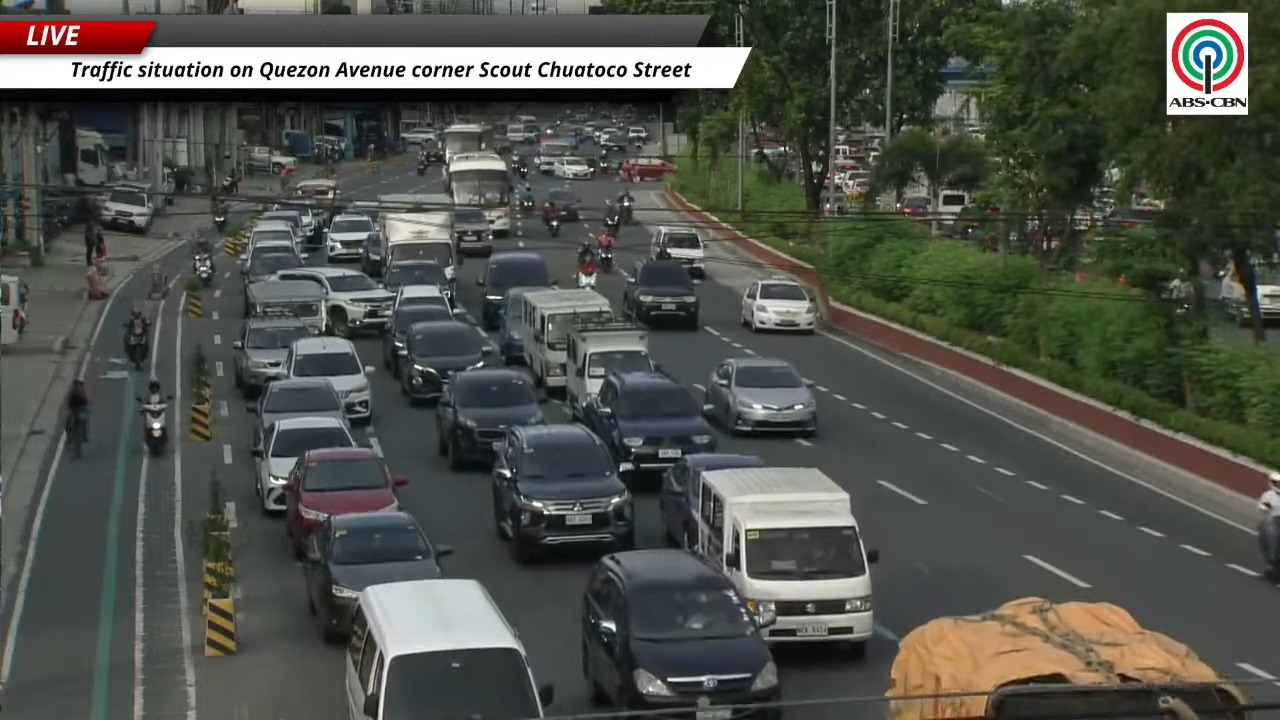bus: (448, 156, 513, 237), (441, 124, 492, 162)
car: (581, 549, 781, 719), (492, 425, 634, 561), (303, 512, 451, 640), (582, 372, 715, 475), (284, 447, 407, 558), (437, 367, 544, 469), (252, 416, 357, 512), (659, 454, 764, 549), (703, 357, 817, 434), (275, 266, 393, 337), (400, 320, 495, 402), (284, 337, 373, 424), (247, 378, 347, 446), (233, 317, 309, 396), (477, 250, 552, 330), (381, 304, 454, 378), (623, 260, 699, 328), (741, 279, 818, 332), (497, 287, 544, 364), (650, 226, 704, 278), (383, 259, 452, 299), (242, 242, 304, 283), (99, 187, 154, 233), (324, 213, 376, 261), (392, 284, 453, 316), (453, 207, 492, 254), (247, 220, 300, 252), (258, 209, 309, 239), (621, 157, 673, 181), (534, 141, 571, 174), (547, 189, 581, 221), (359, 230, 382, 276), (553, 156, 592, 179), (401, 126, 437, 145), (597, 133, 626, 152), (593, 125, 622, 142), (558, 127, 580, 149), (627, 127, 648, 142)
motorcycle: (137, 397, 171, 456), (1257, 504, 1279, 580), (126, 331, 147, 370), (597, 233, 614, 272), (194, 254, 213, 286), (577, 261, 596, 288), (618, 196, 633, 224), (603, 215, 620, 236), (221, 174, 238, 193), (213, 210, 226, 231), (518, 198, 535, 214), (546, 218, 560, 237), (416, 159, 428, 175), (516, 164, 528, 178)
truck: (886, 597, 1248, 719), (685, 467, 878, 655), (507, 289, 613, 392), (565, 320, 656, 420), (379, 212, 458, 284), (75, 127, 111, 186), (244, 146, 297, 174)
